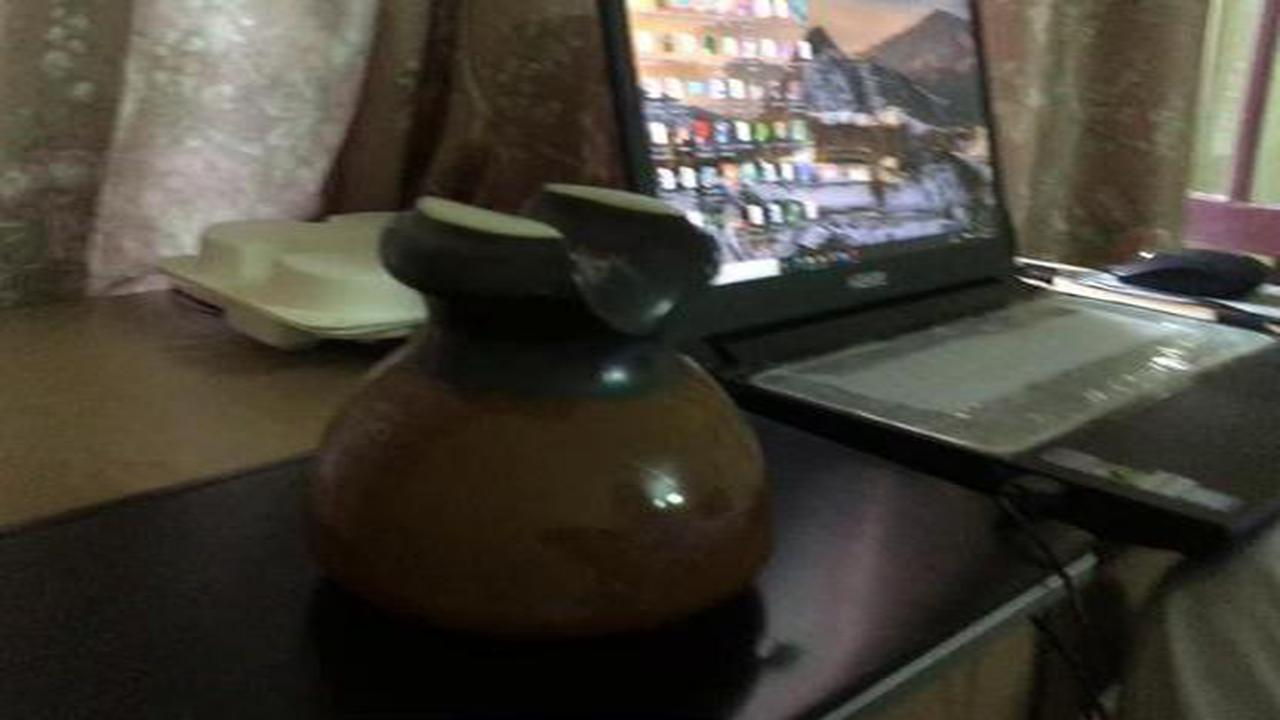insulator_pin: (287, 174, 804, 655)
